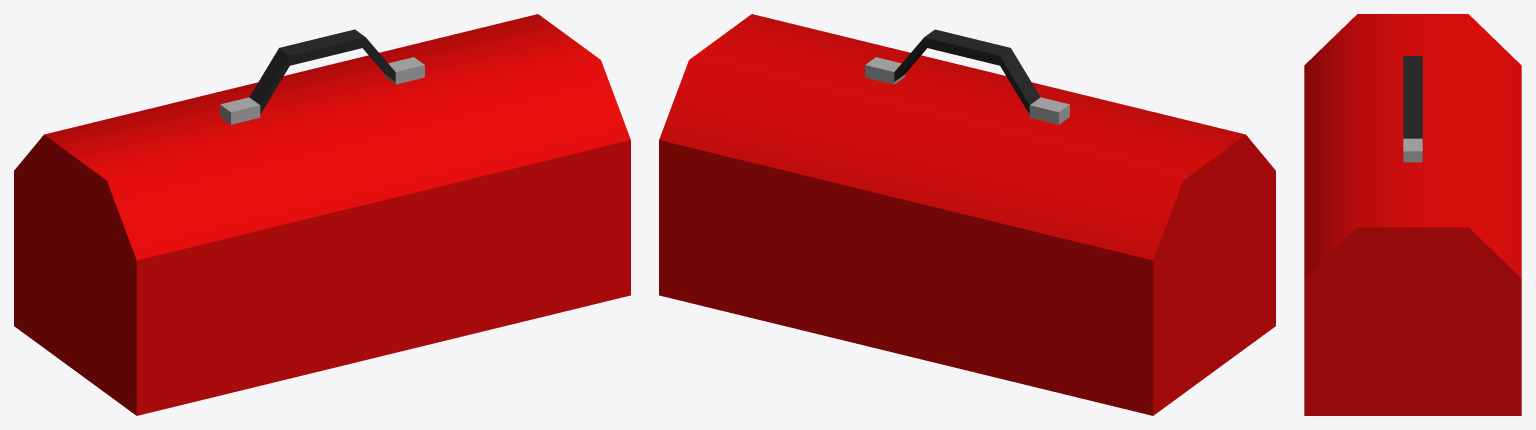
The model's file is Proto_Toolbox_01.fbx.
3 views of the same model, side by side, from view 1: azimuth 30°, elevation 25°; view 2: azimuth 150°, elevation 25°; view 3: azimuth 270°, elevation 25° (orthographic). The views are drawn at different scales.
Visible parts, largest first — view 1: Toolbox_small; view 2: Toolbox_small; view 3: Toolbox_small.
Part boxes in pixels (bbox=[...]): Toolbox_small: bbox=[14, 14, 630, 415]; Toolbox_small: bbox=[659, 14, 1275, 415]; Toolbox_small: bbox=[1304, 14, 1521, 415].
Size of the model in its own units: 1.71 by 0.8885 by 0.7371.
